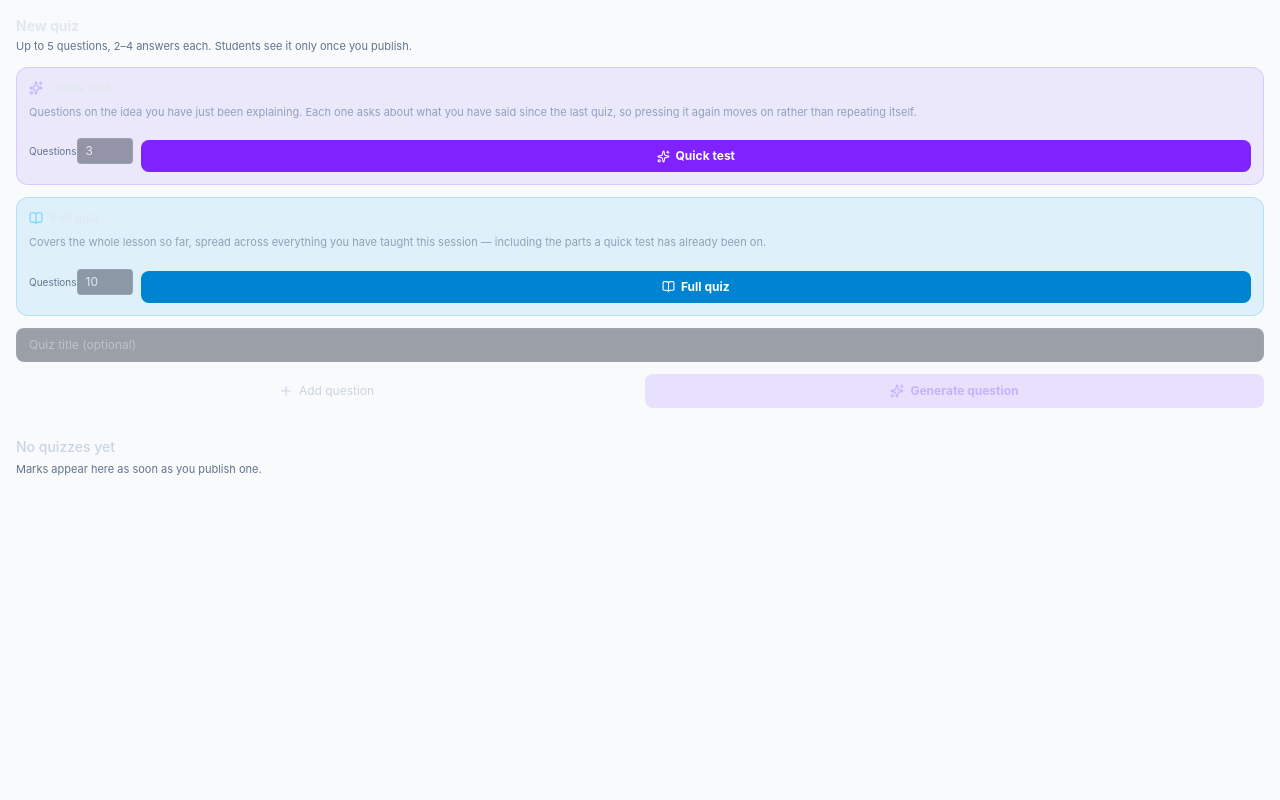
Test: TeacherQuizPanel › warns the teacher when the answer key follows the material instead of what they said
Click the button "Quick test" at (696, 156), box [140,140,1251,172]
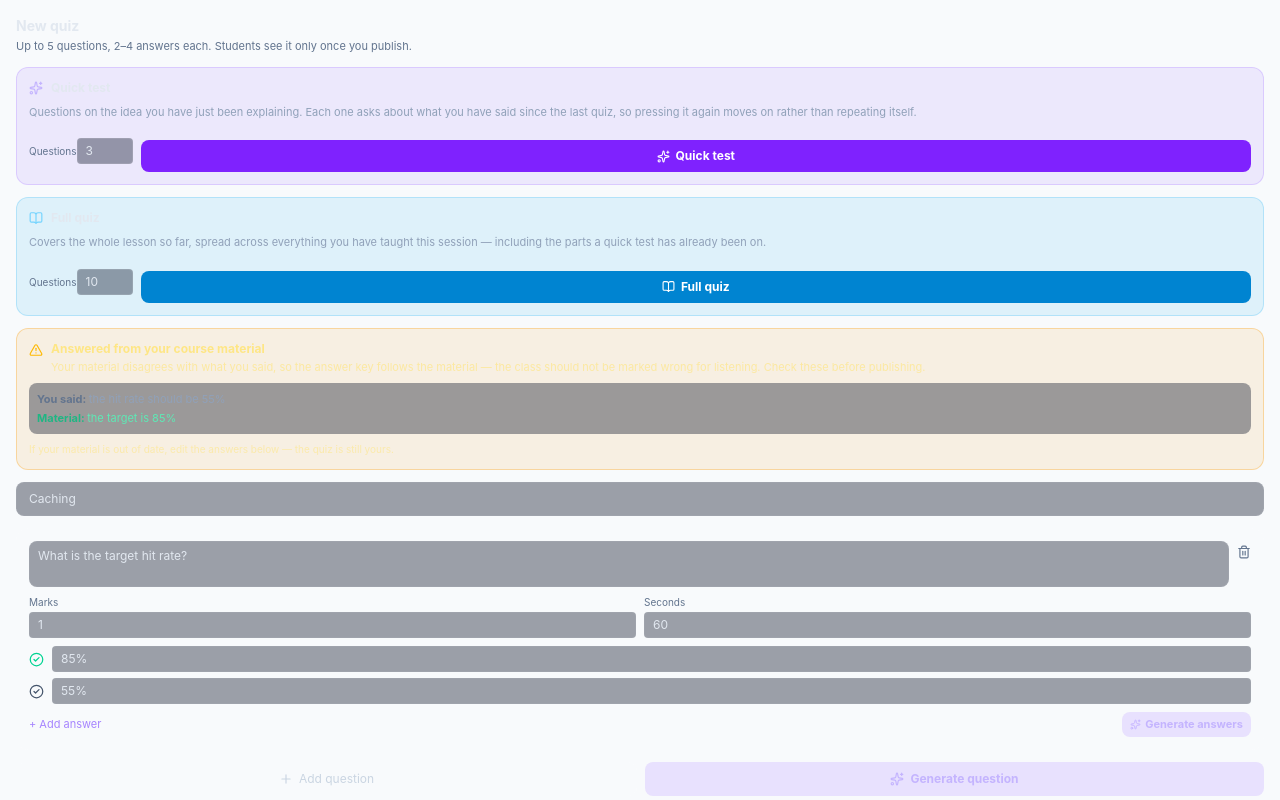
Expected: the text "Answered from your course material" is shown, [51,340,265,356]
Expected: the text "You said: the hit rate should be 55%" is shown, [37,392,226,406]
Expected: the text "Material: the target is 85%" is shown, [37,410,176,424]
